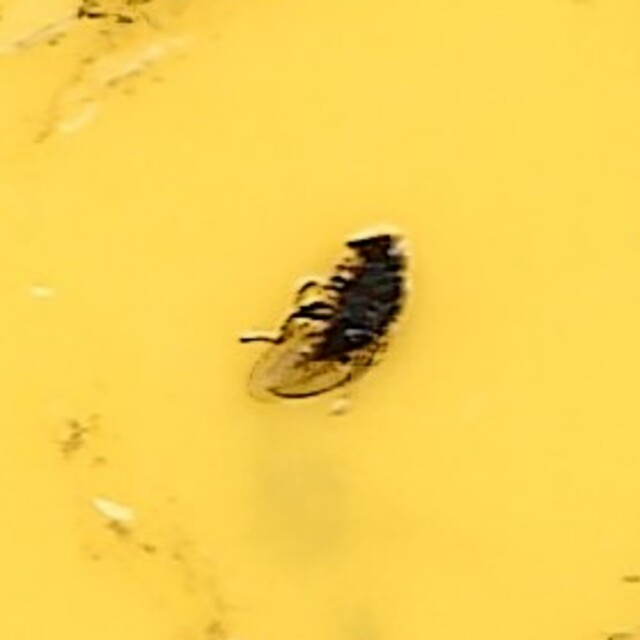Brachycera: (229, 230, 411, 410)
